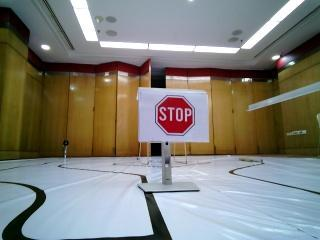stop: (142, 89, 201, 139)
